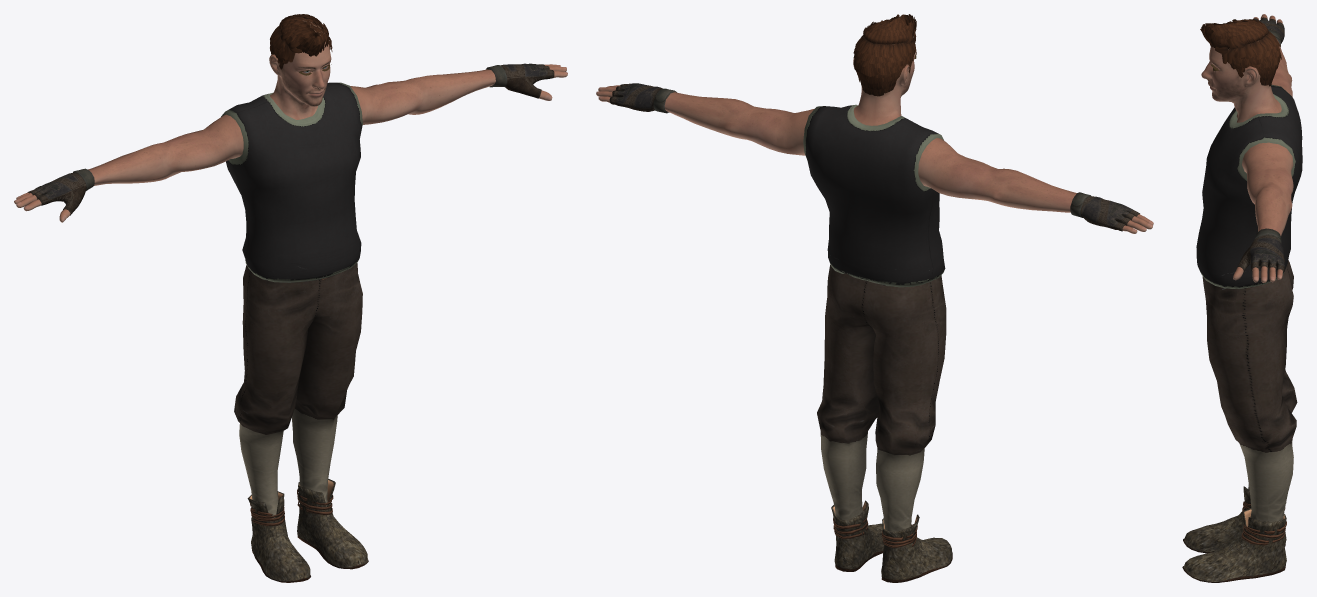
File: MainChar.obj
3 views of the same model, side by side, from view 1: azimuth 30°, elevation 25°; view 2: azimuth 150°, elevation 25°; view 3: azimuth 270°, elevation 25° (orthographic).
Visible parts, largest first — view 1: Bottoms, Tops, Body, Shoes, Gloves, Hair; view 2: Bottoms, Tops, Body, Shoes, Hair, Gloves; view 3: Bottoms, Tops, Body, Shoes, Hair, Gloves.
Part boxes in pixels (x1=…): Bottoms: x1=234, y1=263, x2=362, y2=518; Tops: x1=221, y1=82, x2=362, y2=282; Body: x1=14, y1=19, x2=567, y2=222; Shoes: x1=247, y1=479, x2=368, y2=582; Gloves: x1=27, y1=63, x2=554, y2=215; Hair: x1=270, y1=14, x2=332, y2=69; Bottoms: x1=817, y1=264, x2=946, y2=535; Tops: x1=803, y1=104, x2=945, y2=287; Body: x1=596, y1=37, x2=1153, y2=233; Shoes: x1=831, y1=500, x2=952, y2=582; Hair: x1=853, y1=14, x2=916, y2=96; Gloves: x1=609, y1=83, x2=1139, y2=231; Bottoms: x1=1202, y1=260, x2=1297, y2=521; Tops: x1=1196, y1=84, x2=1302, y2=289; Body: x1=1201, y1=14, x2=1293, y2=282; Shoes: x1=1182, y1=485, x2=1286, y2=582; Hair: x1=1200, y1=19, x2=1281, y2=86; Gloves: x1=1236, y1=17, x2=1284, y2=272.
Size of the model in its own units: 194 by 182 by 36.71.
6 materials, 6 textured.
